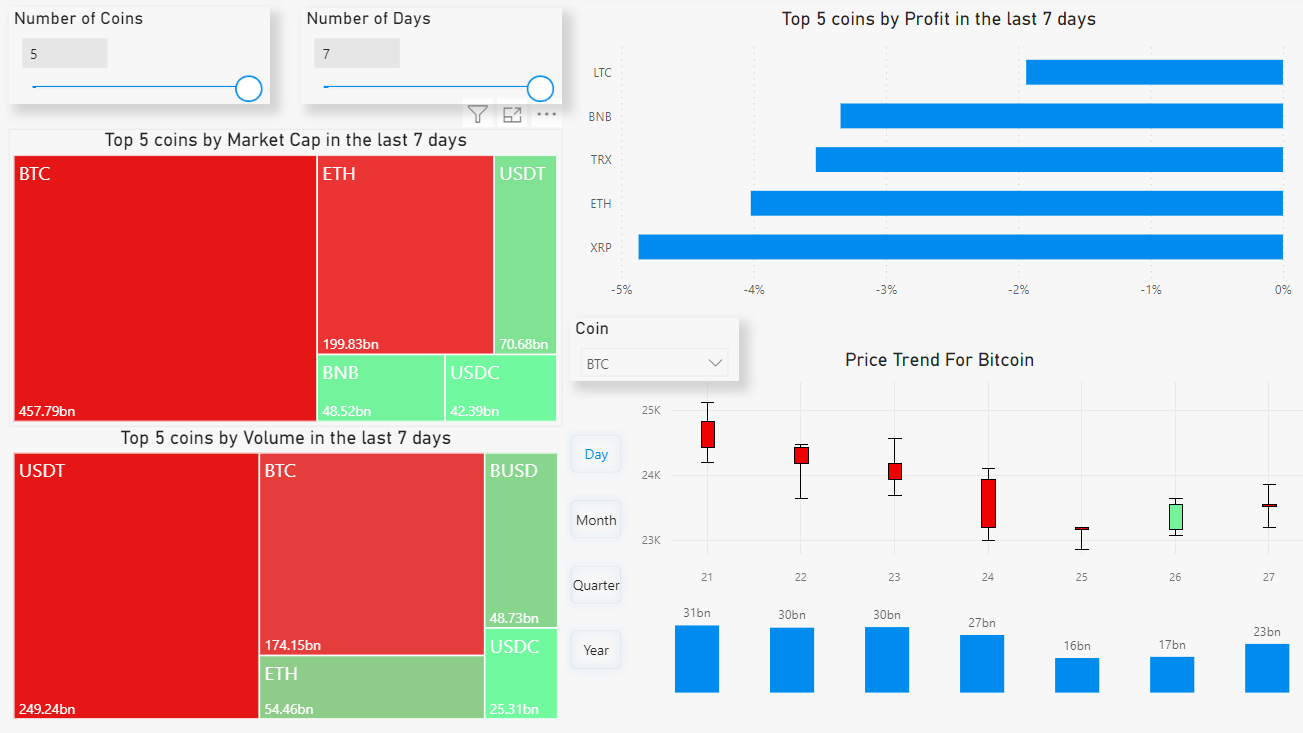

The dashboard page shown, as its layout file describes it:
{"tool":"powerbi","page":{"name":"CryptoCurrency","canvas":[1280,720],"ordinal":0},"visuals":[{"type":"PBI_CV_886A053E_9DFD_4EA0_A47D_CCAEB89AF969","fields":{"open":["Sum(crypto FactPrice.OpenPrice)"],"close":["Sum(crypto FactPrice.ClosePrice)"],"high":["Sum(crypto FactPrice.HighPrice)"],"low":["Sum(crypto FactPrice.LowPrice)"],"Category":["crypto DimDate.Day","crypto DimDate.Month","crypto DimDate.Quarter","crypto DimDate.Year"]},"box":[551.9,341.8,727.8,257],"z":0},{"type":"treemap","fields":{"Values":["Calculations.TopCoin"],"Group":["crypto DimCoin.Symbol"]},"box":[17.7,129.1,534.2,287.3],"z":1000},{"type":"clusteredColumnChart","fields":{"Y":["Sum(crypto FactPrice.Volume)"],"Category":["crypto DimDate.Day","crypto DimDate.Month","crypto DimDate.Quarter","crypto DimDate.Year"]},"box":[655.5,571.6,606,107.4],"z":2000},{"type":"barChart","fields":{"Category":["crypto DimCoin.Symbol"],"Y":["Calculations.TopProfit"]},"box":[569.2,12.1,692.3,290.7],"z":3000},{"type":"slicer","title":"Number of Coins","fields":{"Values":["TopCoins.TopCoins"]},"box":[17.7,12.7,252.1,92.9],"z":4000,"group":"g1"},{"type":"treemap","fields":{"Group":["crypto DimCoin.Symbol"],"Values":["Calculations.TopVolume"]},"box":[18.1,416.1,534.3,287],"z":4000},{"type":"slicer","title":"Coin","fields":{"Values":["crypto DimCoin.Symbol"]},"box":[559.6,311.2,162.8,61.5],"z":5000},{"type":"shape","box":[322,59.1,206.2,59.1],"z":5500},{"type":"slicer","title":"Number of Days","fields":{"Values":["Days.Days"]},"box":[299.6,13.2,251.9,92.4],"z":6000,"group":"g1"},{"type":"bookmarkNavigator","box":[552.4,416.1,65.1,244.8],"z":6000},{"type":"shape","box":[41,59.1,206.2,59.1],"z":6500},{"type":"group","id":"g1","title":"Group 1","box":[17.7,12.7,534.2,92.4],"z":7000}]}

Visuals, with their boxes in screenshot pixels (x1, y1, x2, y2), scaled from the page's 1280x720 canvas onto the 1303x733 screenshot:
PBI_CV_886A053E_9DFD_4EA0_A47D_CCAEB89AF969 - Sum(crypto FactPrice.OpenPrice) x Sum(crypto FactPrice.ClosePrice): (562, 348, 1302, 610)
treemap - Calculations.TopCoin x crypto DimCoin.Symbol: (18, 131, 562, 424)
clusteredColumnChart - Sum(crypto FactPrice.Volume) x crypto DimDate.Day: (667, 582, 1284, 691)
barChart - crypto DimCoin.Symbol x Calculations.TopProfit: (579, 12, 1284, 308)
"Number of Coins" slicer: (18, 13, 275, 108)
treemap - crypto DimCoin.Symbol x Calculations.TopVolume: (18, 424, 562, 716)
"Coin" slicer: (570, 317, 735, 379)
shape: (328, 60, 538, 120)
"Number of Days" slicer: (305, 13, 561, 108)
bookmarkNavigator: (562, 424, 629, 673)
shape: (42, 60, 252, 120)
"Group 1" group: (18, 13, 562, 107)
